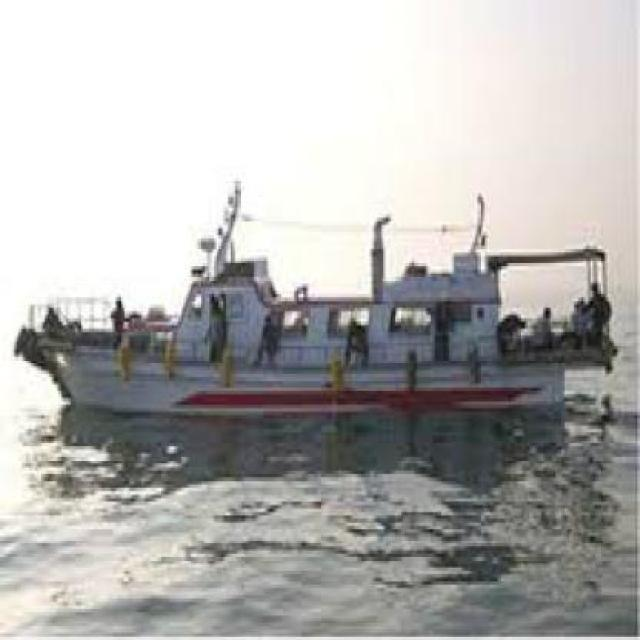fish-b: (6, 180, 627, 437)
